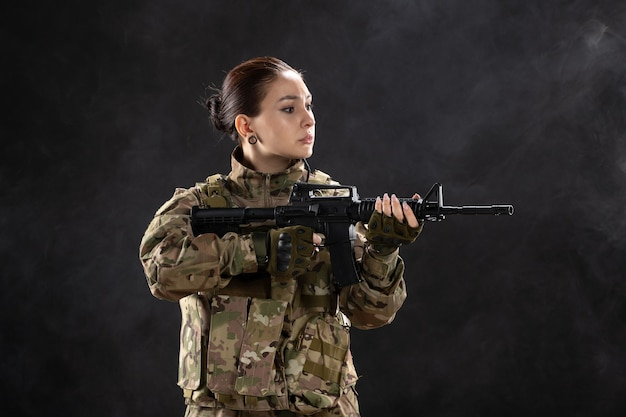gun: (188, 181, 513, 290)
